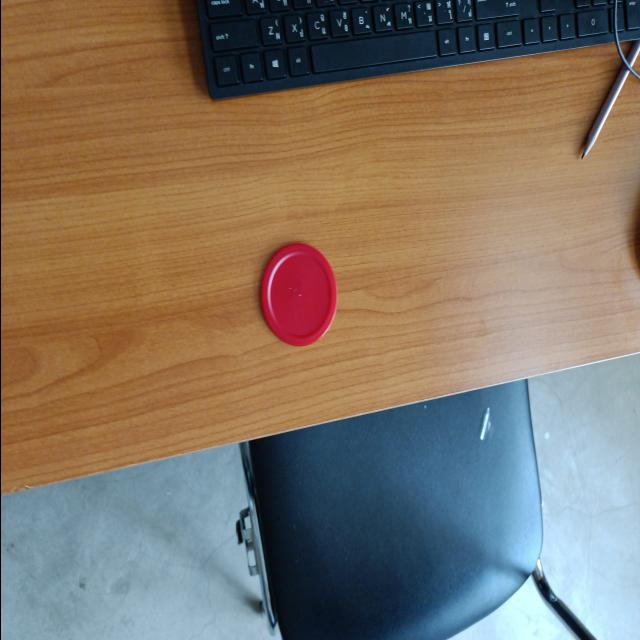chip: (258, 240, 338, 348)
